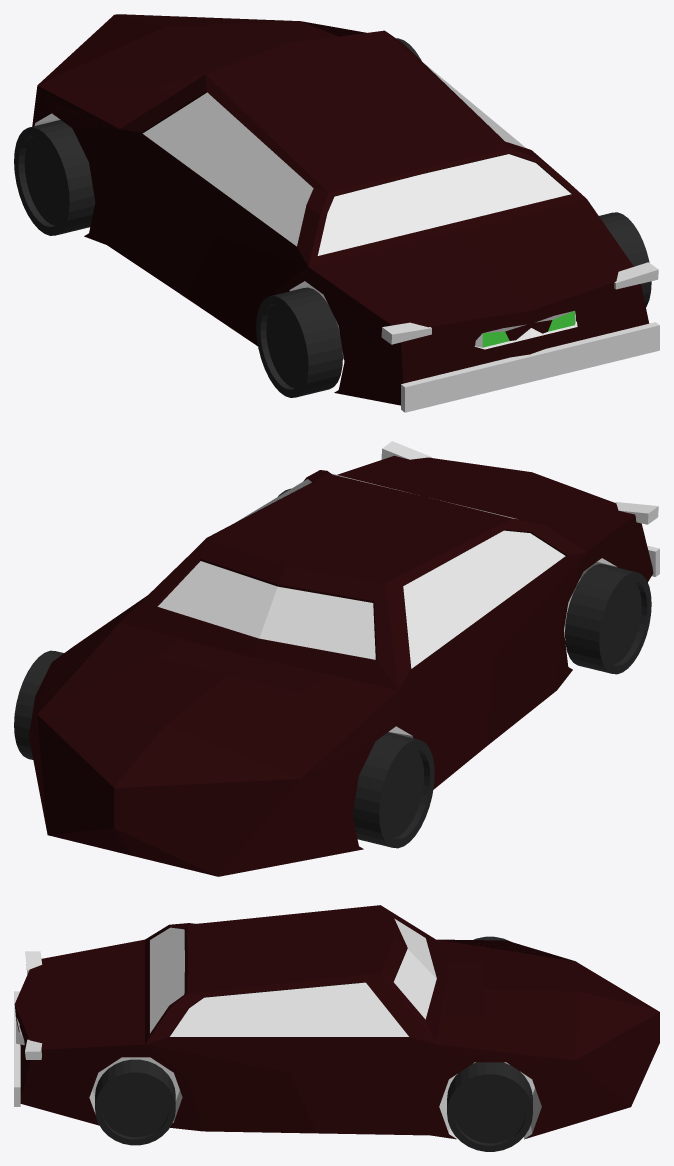
The model's file is car.glb.
The picture shows the model from 3 angles, top to bottom: view 1: azimuth 30°, elevation 25°; view 2: azimuth 150°, elevation 25°; view 3: azimuth 270°, elevation 25°; orthographic projection. The views are drawn at different scales.
Parts seen in each view (by area): view 1: Cube; view 2: Cube; view 3: Cube.
Part boxes in pixels (x1,y1,x2,y2): Cube: (14,14,659,412); Cube: (14,441,659,876); Cube: (14,905,659,1151).
Size of the model in its own units: 2.23 by 1.1 by 4.42.
